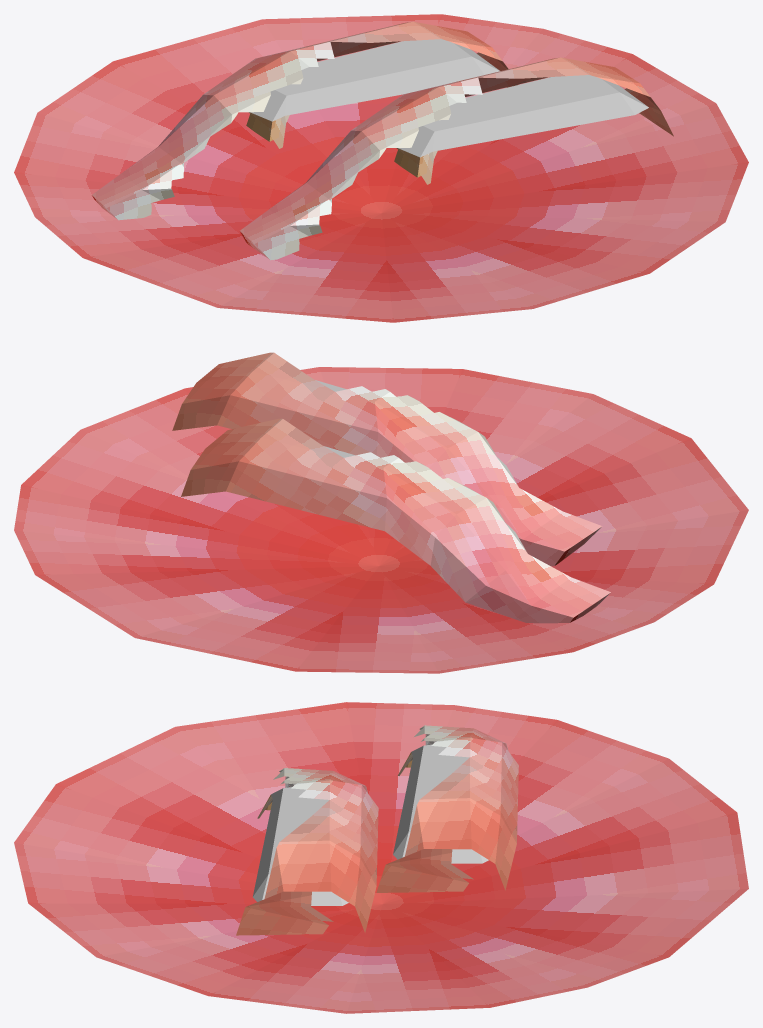
File: sushi_m.obj
3 views of the same model, one above another, from view 1: azimuth 30°, elevation 25°; view 2: azimuth 150°, elevation 25°; view 3: azimuth 270°, elevation 25° (orthographic).
Visible parts, largest first — view 1: plate_Cone, maguro_Cube001, maguro001_Cube004; view 2: plate_Cone, maguro001_Cube004, maguro_Cube001; view 3: plate_Cone, maguro001_Cube004, maguro_Cube001.
Boxes of the visible parts, bbox=[...] form: plate_Cone: bbox=[14, 14, 748, 322]; maguro_Cube001: bbox=[240, 57, 673, 260]; maguro001_Cube004: bbox=[92, 21, 517, 220]; plate_Cone: bbox=[14, 367, 748, 673]; maguro001_Cube004: bbox=[181, 418, 610, 623]; maguro_Cube001: bbox=[172, 352, 602, 566]; plate_Cone: bbox=[14, 702, 748, 1013]; maguro001_Cube004: bbox=[376, 725, 518, 892]; maguro_Cube001: bbox=[236, 768, 378, 935].
Size of the model in its own units: 0.991 by 0.2326 by 0.9875.
